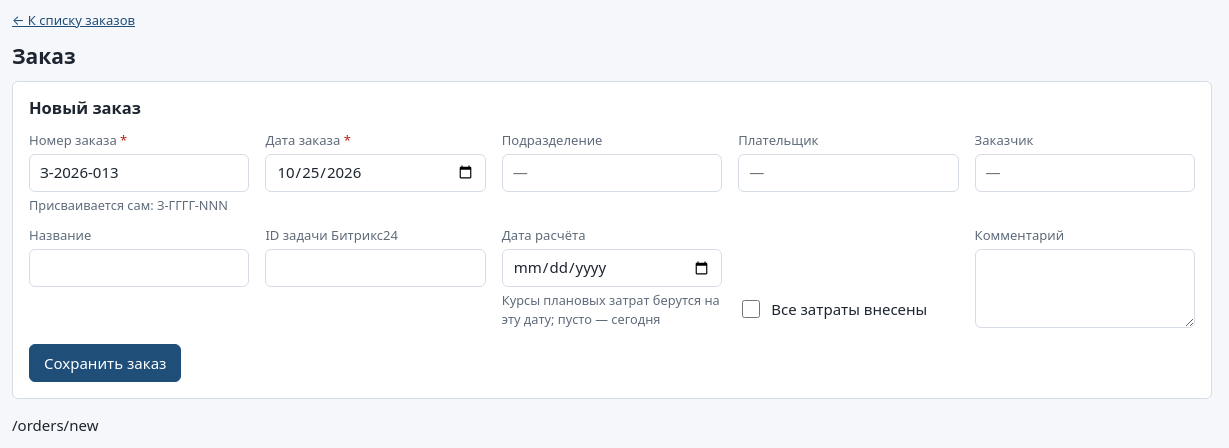
Test: создание заказа › номер по умолчанию — следующий свободный; повтор — ошибка у поля, введённое остаётся
Replace the text in the field labelled "Номер заказа *" with "12" at [139, 173], box [29, 154, 249, 192]
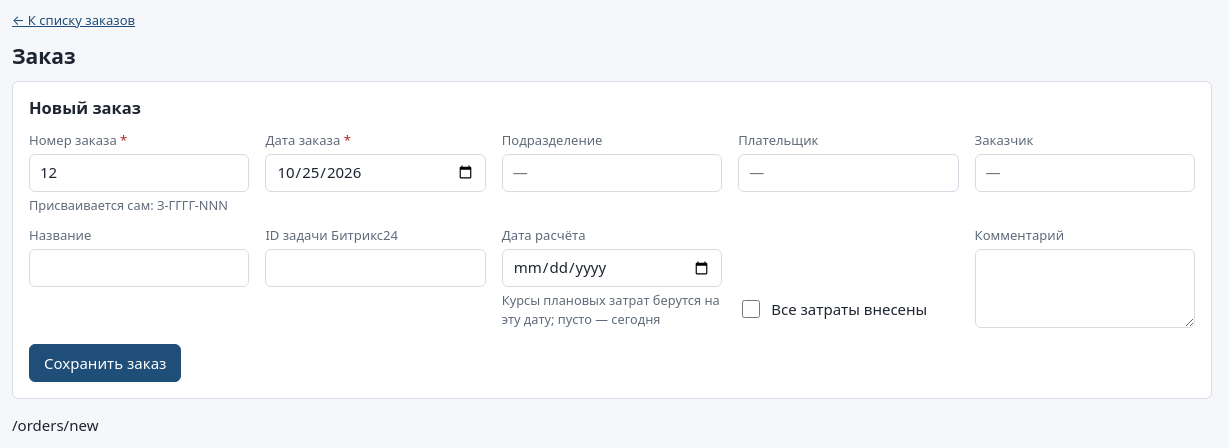
Type "Мой заказ" into the dropdown labelled "Название" at [139, 268], box [29, 249, 249, 287]
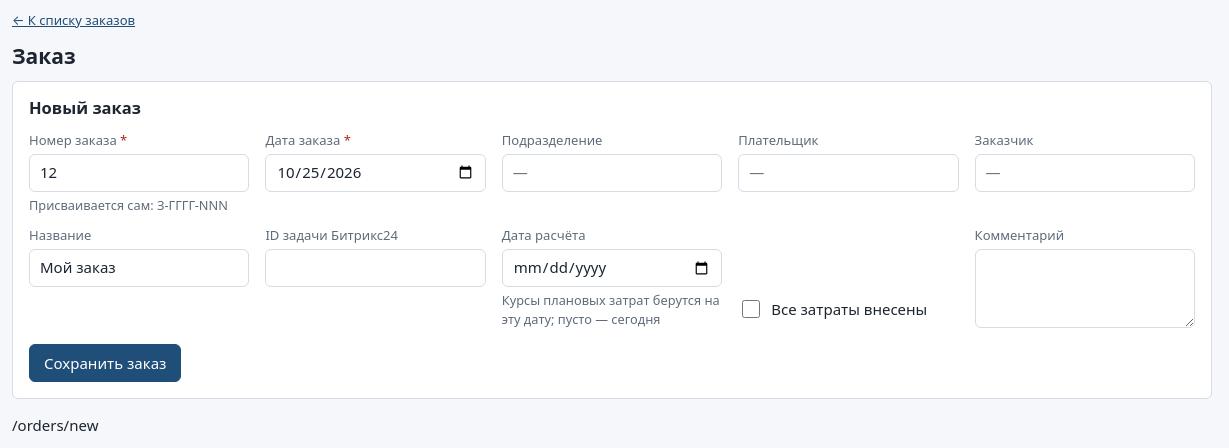
Click the button "Сохранить заказ" at [105, 363], box [29, 344, 182, 382]
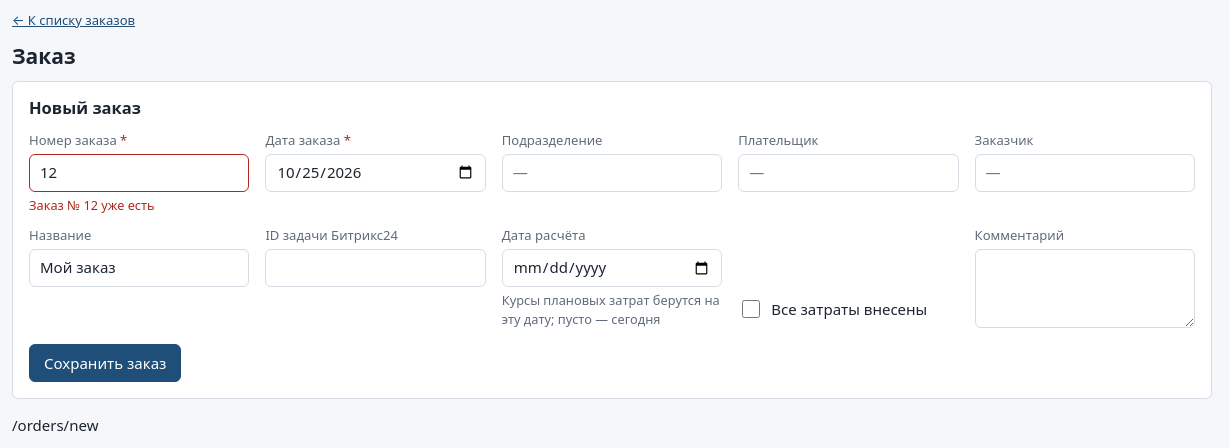
Check: the text "Заказ № 12 уже есть" is shown, box [29, 196, 155, 214]
